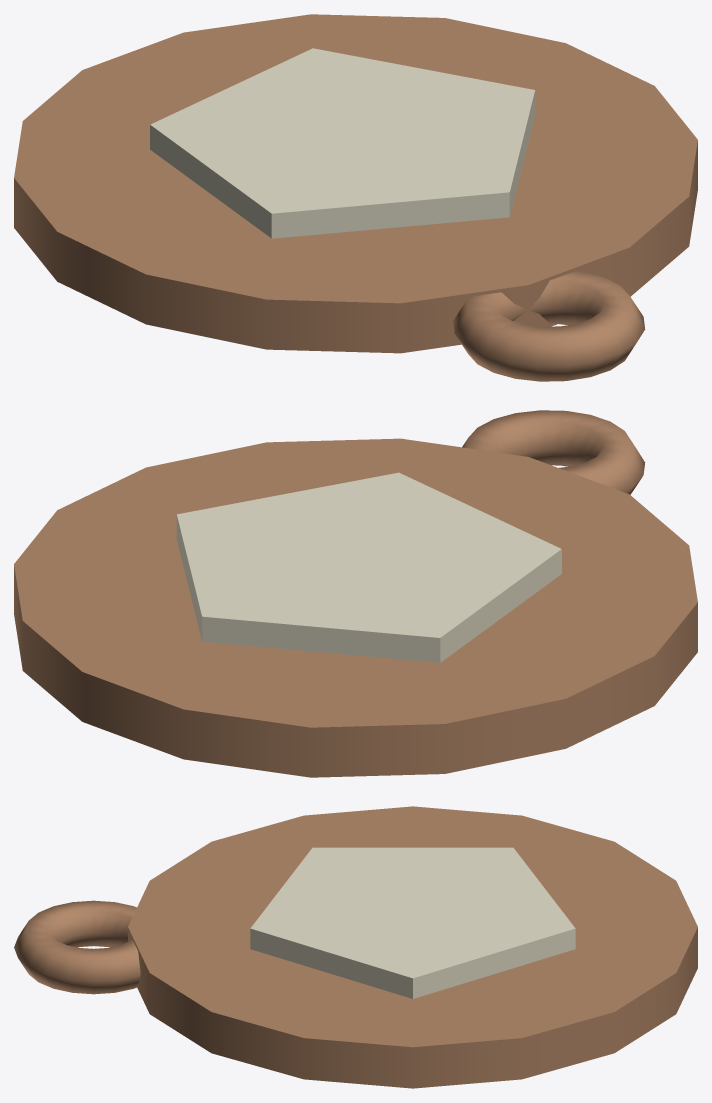
Rendered from scavengers-loot-library-medallion-4e14188d__2652.glb.
3 renders of one model, top to bottom at view 1: azimuth 30°, elevation 25°; view 2: azimuth 150°, elevation 25°; view 3: azimuth 270°, elevation 25°, orthographic. The views are drawn at different scales.
Visible parts, largest first — view 1: medallion; view 2: medallion; view 3: medallion.
Part boxes in pixels (x1,y1,x2,y2): medallion: [14, 14, 697, 381]; medallion: [14, 410, 697, 777]; medallion: [14, 806, 697, 1088].
Size of the model in its own units: 0.05 by 0.006 by 0.06.
